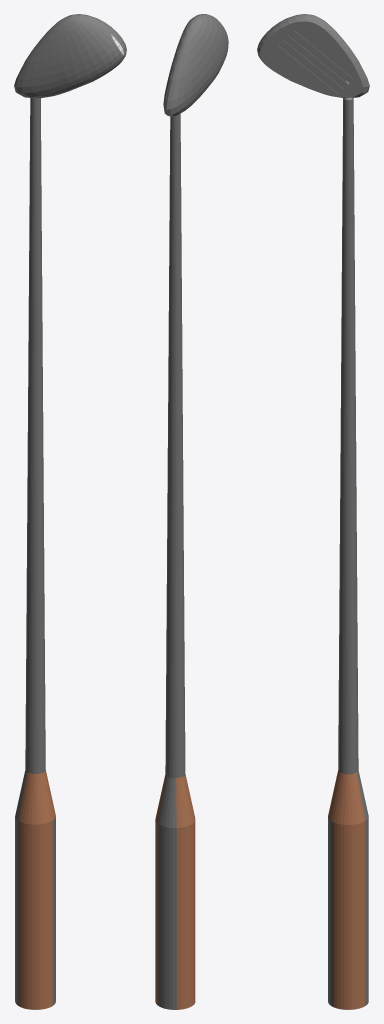
File: GolfClub 05.fbx
3 views of the same model, side by side, from view 1: azimuth 90°, elevation 25°; view 2: azimuth 150°, elevation 25°; view 3: azimuth 270°, elevation 25° (orthographic).
Parts seen in each view (by area): view 1: Cylinder; view 2: Cylinder; view 3: Cylinder.
Boxes of the visible parts, left/top/right/bottom form: Cylinder: left=14, top=14, right=126, bottom=1009; Cylinder: left=155, top=14, right=228, bottom=1009; Cylinder: left=257, top=14, right=369, bottom=1009.
Size of the model in its own units: 13.82 by 5.21 by 133.
1 material, 1 textured.
